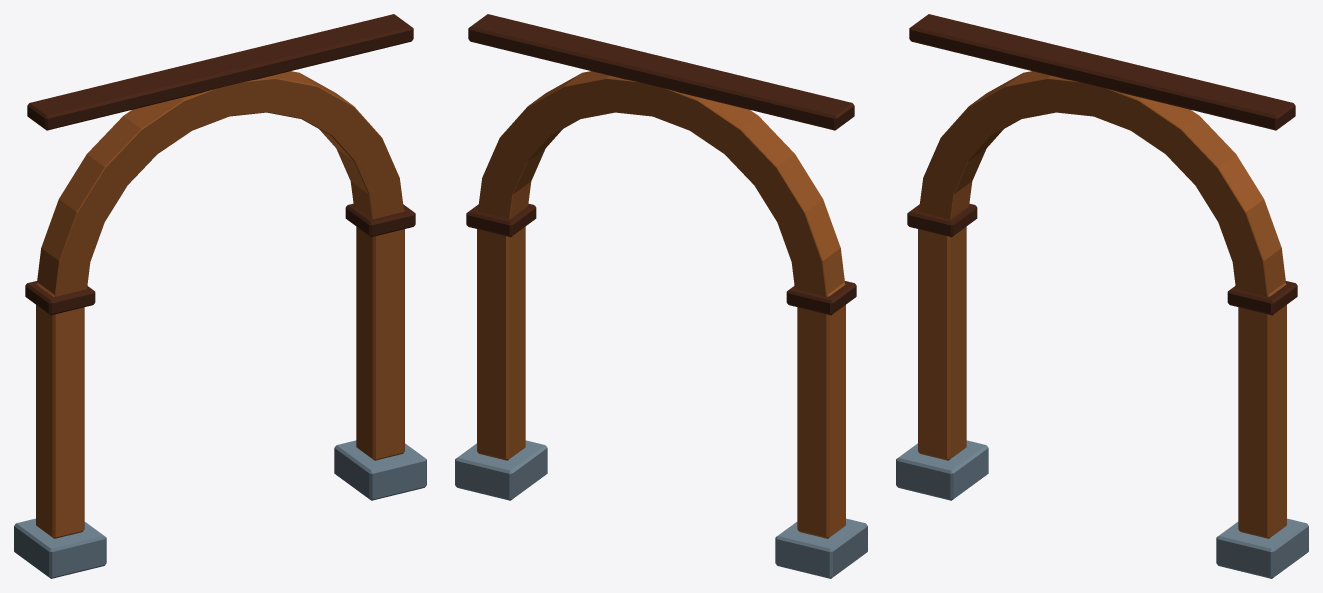
Rendered from EH_PorchArch.fbx.
3 renders of one model, left to right at view 1: azimuth 30°, elevation 25°; view 2: azimuth 150°, elevation 25°; view 3: azimuth 330°, elevation 25°, orthographic.
Parts seen in each view (by area): view 1: EH_PorchArch; view 2: EH_PorchArch; view 3: EH_PorchArch.
Part boxes in pixels (left/top/right/bottom): EH_PorchArch: left=14, top=14, right=426, bottom=578; EH_PorchArch: left=455, top=14, right=867, bottom=578; EH_PorchArch: left=896, top=14, right=1308, bottom=578.
Size of the model in its own units: 2.1 by 2.42 by 0.36.
